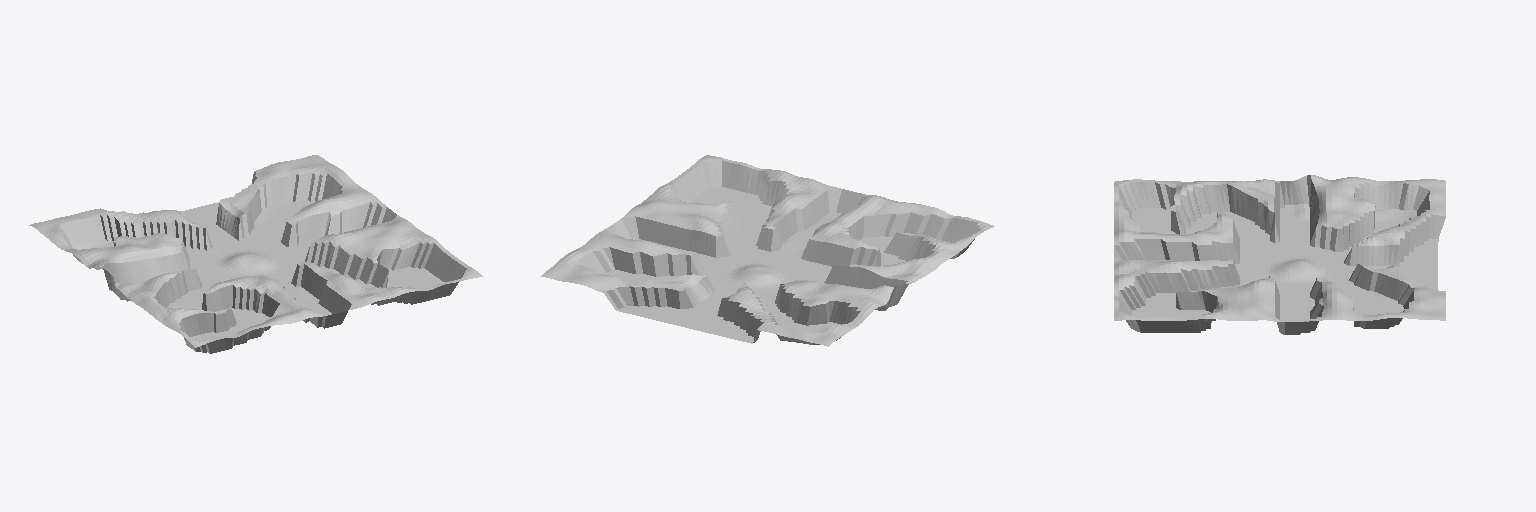
File: MapSculpt.obj
3 views of the same model, side by side, from view 1: azimuth 30°, elevation 25°; view 2: azimuth 150°, elevation 25°; view 3: azimuth 270°, elevation 25° (orthographic).
Parts seen in each view (by area): view 1: Plane; view 2: Plane; view 3: Plane.
Part boxes in pixels (x1,y1,x2,y2): Plane: (29, 155, 482, 353); Plane: (541, 155, 994, 346); Plane: (1114, 175, 1445, 334).
Bounding box in the file's own units: 400 × 38.33 × 400.